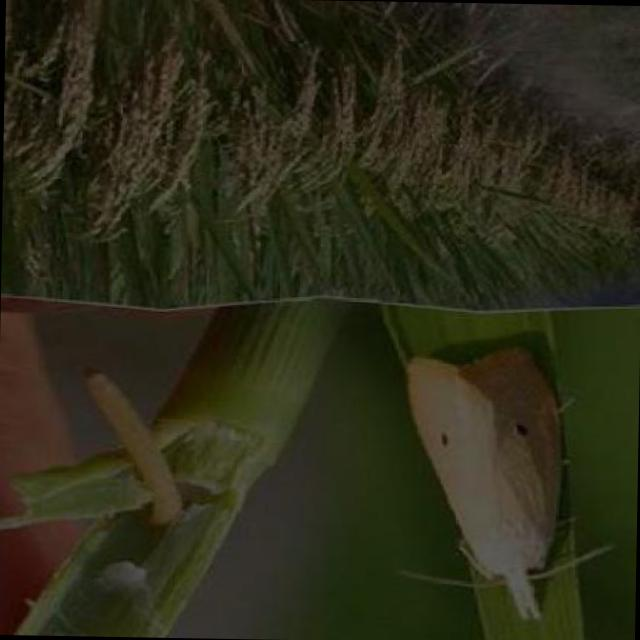stem-borer: (391, 338, 611, 622)
